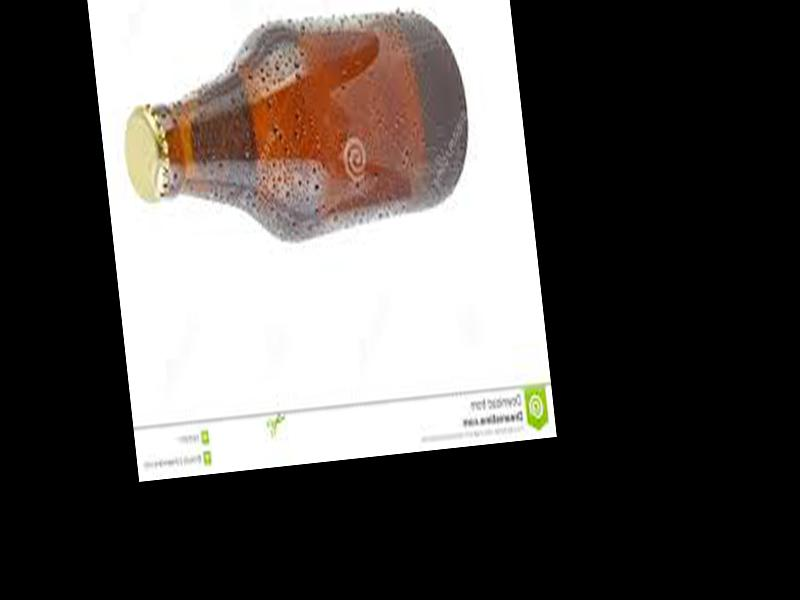Beer: (114, 1, 477, 257)
